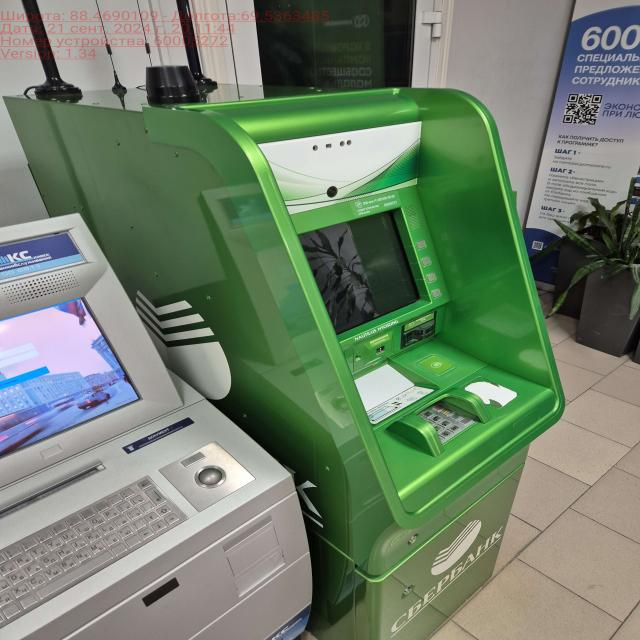bank: (5, 88, 565, 638)
